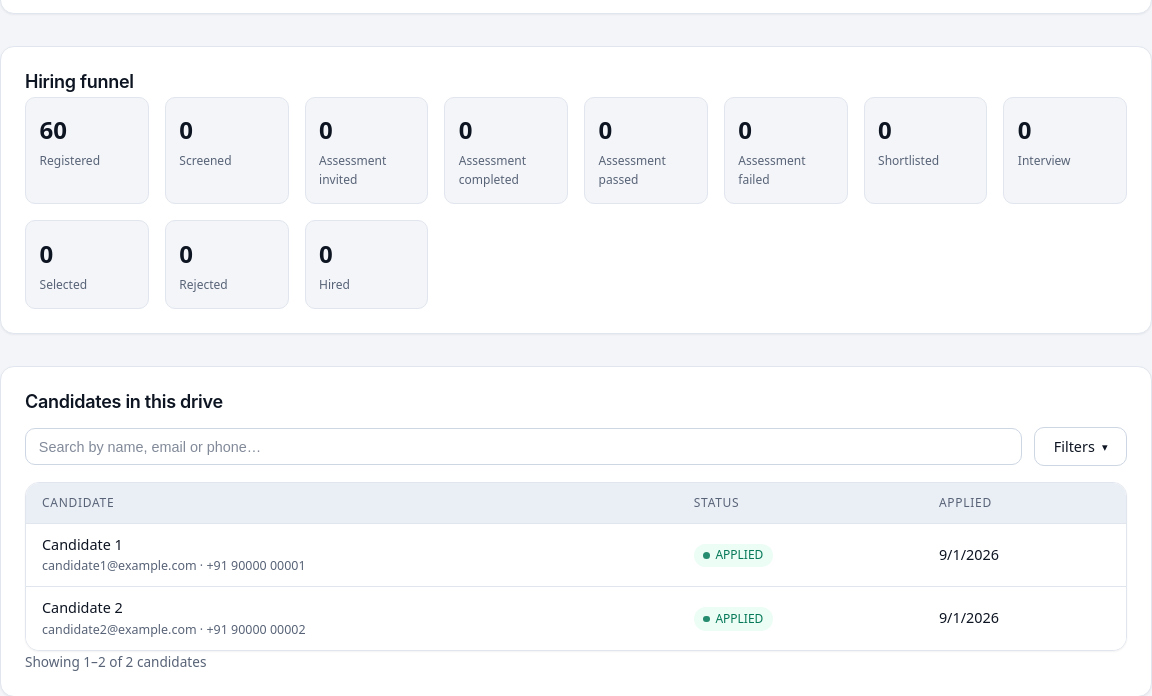
Test case: CampusDriveDetailPage — Candidates in this drive › offers only the filters that make sense for one drive
(page scrolled)
Expected: the text "Candidate 1" is shown, [42, 535, 123, 554]
Click the button "Filters ▾": [1081, 447] box [1034, 427, 1127, 466]
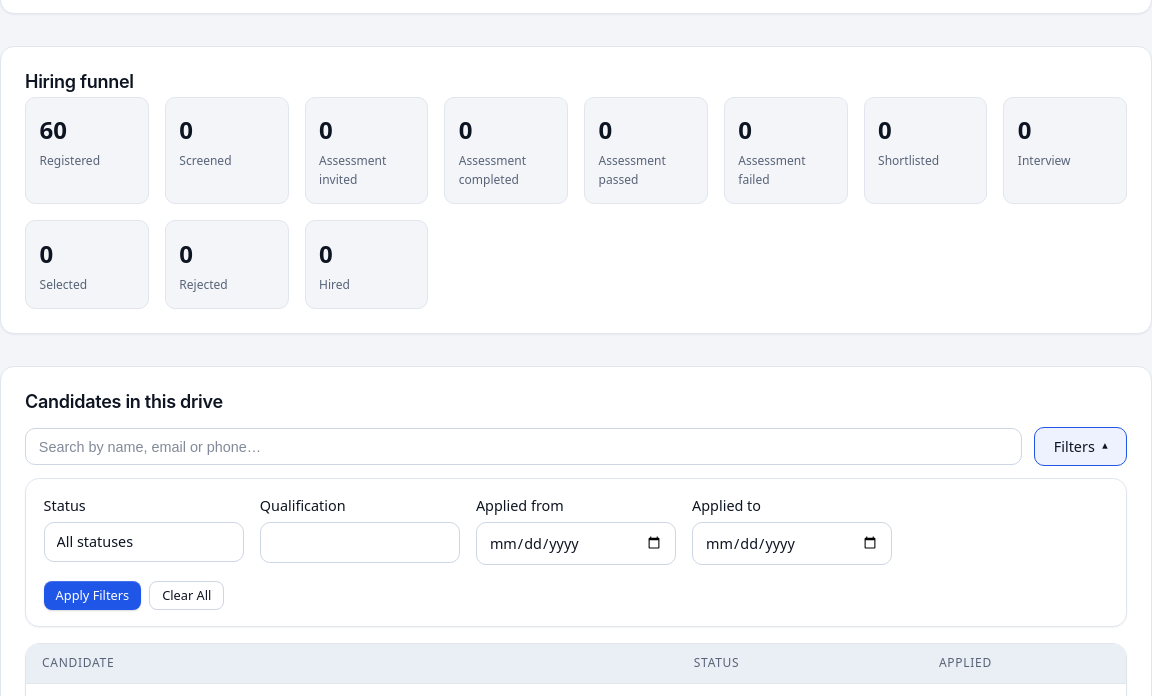
Expected: the dropdown labelled "Status" is shown, [44, 522, 244, 562]
Expected: the field labelled "Qualification" is shown, [260, 522, 460, 562]
Expected: the date field labelled "Applied from" is shown, [476, 522, 676, 564]
